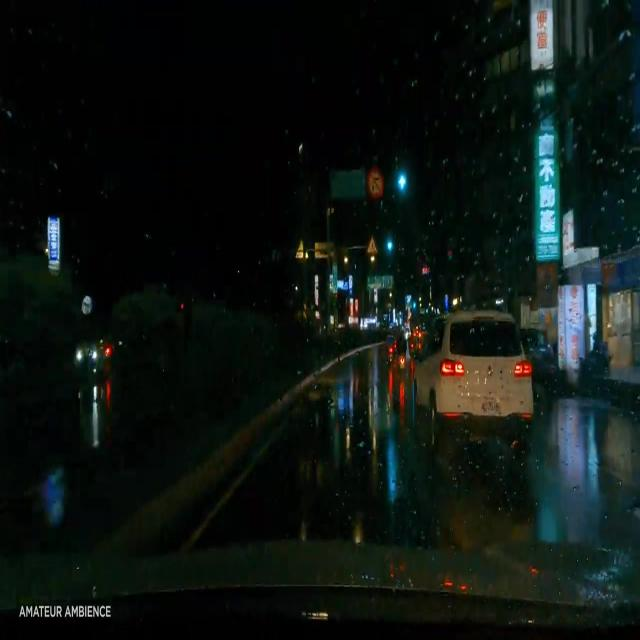Car: (410, 311, 530, 445)
